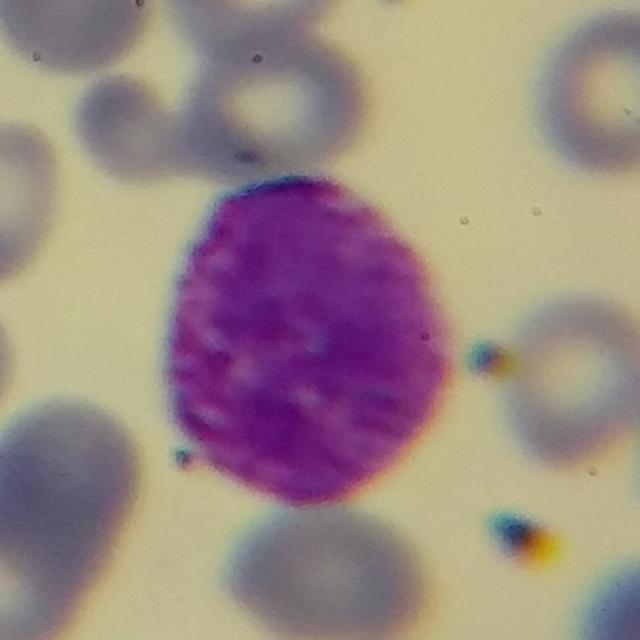Basophil: (142, 155, 476, 523)
Platelets: (481, 506, 563, 574), (464, 336, 518, 383)
RBC: (0, 386, 157, 638), (170, 21, 382, 184), (214, 493, 441, 640), (478, 283, 639, 474), (524, 0, 640, 184), (66, 67, 198, 189), (0, 0, 164, 79), (0, 109, 70, 294), (162, 0, 348, 56), (564, 543, 640, 639), (0, 279, 23, 445)
